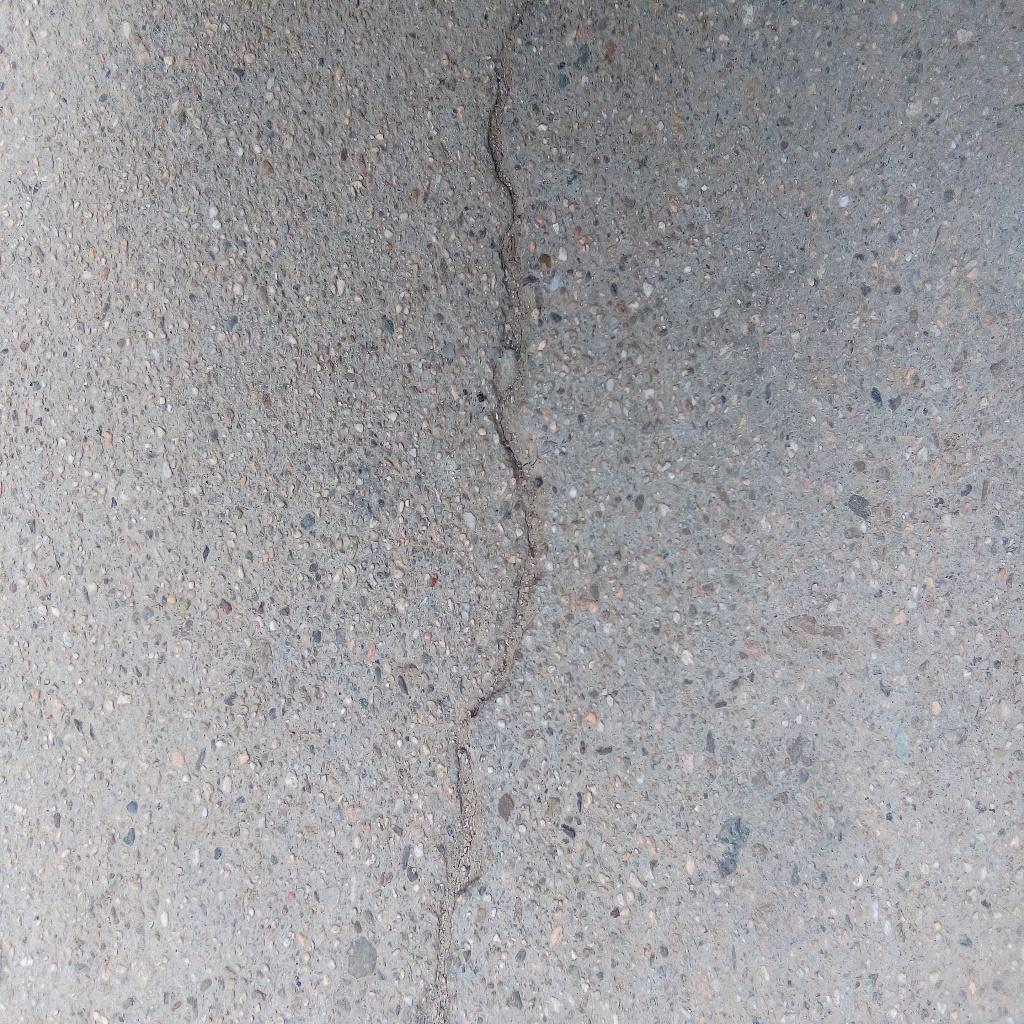Crack: (433, 1, 550, 1024)
